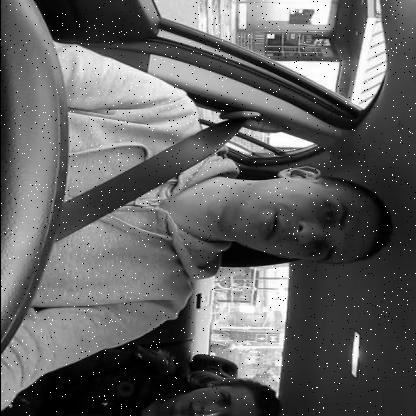seatbelt: (43, 100, 402, 284)
